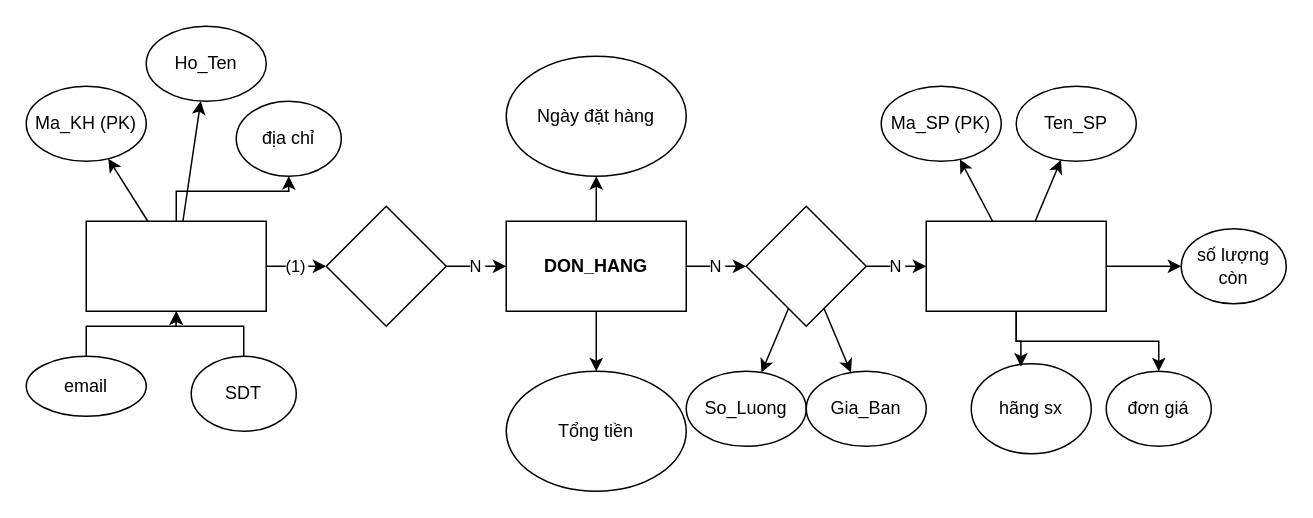
This 1313x518 diagram has some shape labels left out. The shapes that lost their labels are listed below. From the top down, each one's centre as x and y in pixels, then its label:
At point (175, 265): "KHACH_HANG".
At point (385, 265): "Mua".
At point (805, 265): "Chi tiet".
At point (1015, 265): "SAN_PHAM".
